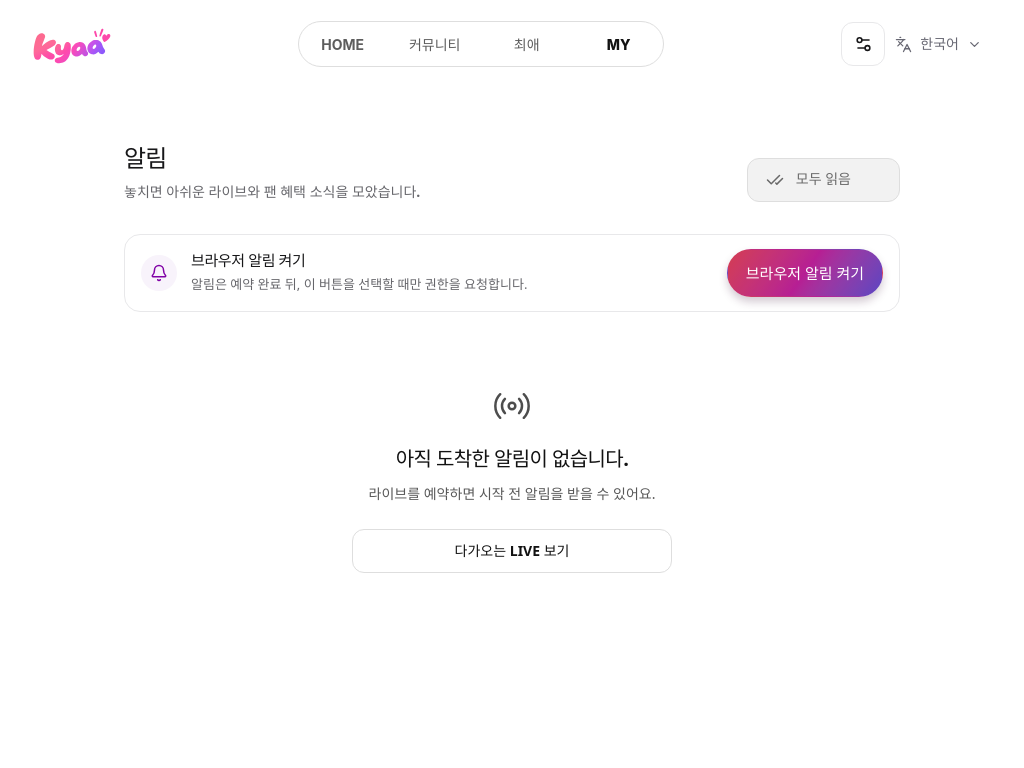
FAN-019 Notification Center › announces the denied push result
The image size is (1024, 768).
Expected: the heading "아직 도착한 알림이 없습니다." is shown, 396,446 -> 628,471
What coordinates should you click on to do the following:
click the button "브라우저 알림 켜기"
I would click on:
 (805, 273)
Its box is 727,249 -> 883,297.
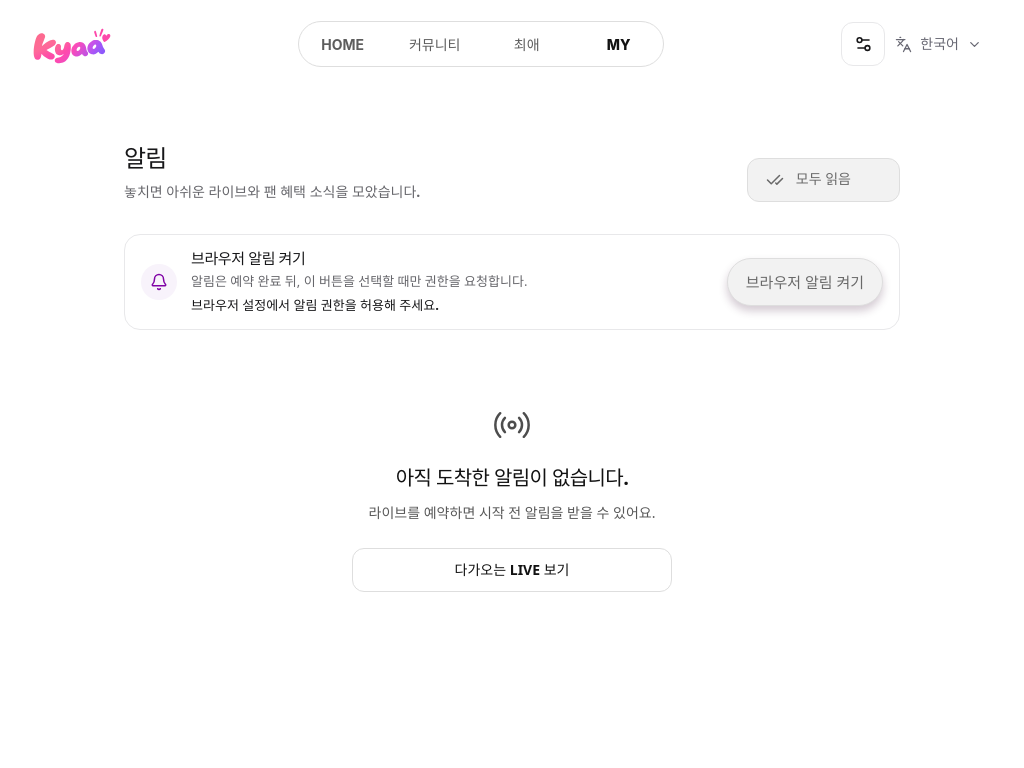
Now the text "브라우저 설정에서 알림 권한을 허용해 주세요." is shown, box 191,296 -> 439,314
